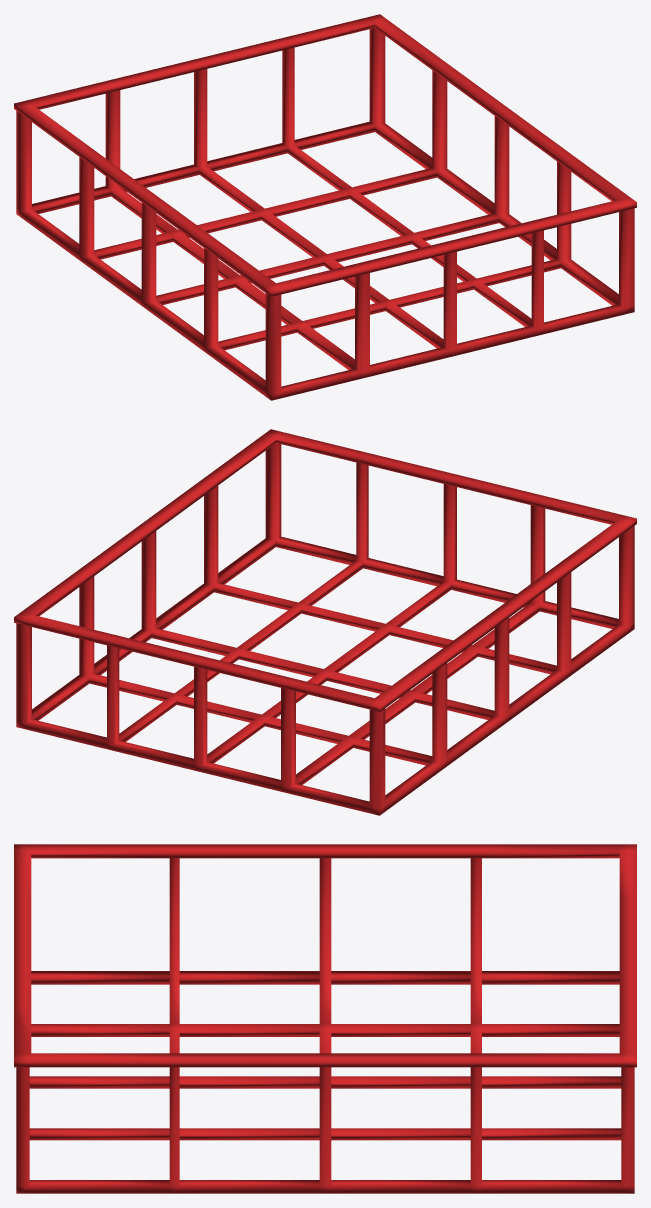
The model's file is MOD_APP_Dishwasher_tray_01.fbx.
The picture shows the model from 3 angles, top to bottom: view 1: azimuth 30°, elevation 25°; view 2: azimuth 150°, elevation 25°; view 3: azimuth 270°, elevation 25°; orthographic projection. The views are drawn at different scales.
Visible parts, largest first — view 1: HSHP_MOD_Dishwasher_tray_01; view 2: HSHP_MOD_Dishwasher_tray_01; view 3: HSHP_MOD_Dishwasher_tray_01.
Part boxes in pixels (left/top/right/bottom): HSHP_MOD_Dishwasher_tray_01: left=14, top=14, right=636, bottom=400; HSHP_MOD_Dishwasher_tray_01: left=14, top=429, right=636, bottom=815; HSHP_MOD_Dishwasher_tray_01: left=14, top=844, right=636, bottom=1193.
Bounding box in the file's own units: 0.7439 × 0.2142 × 0.9042.
